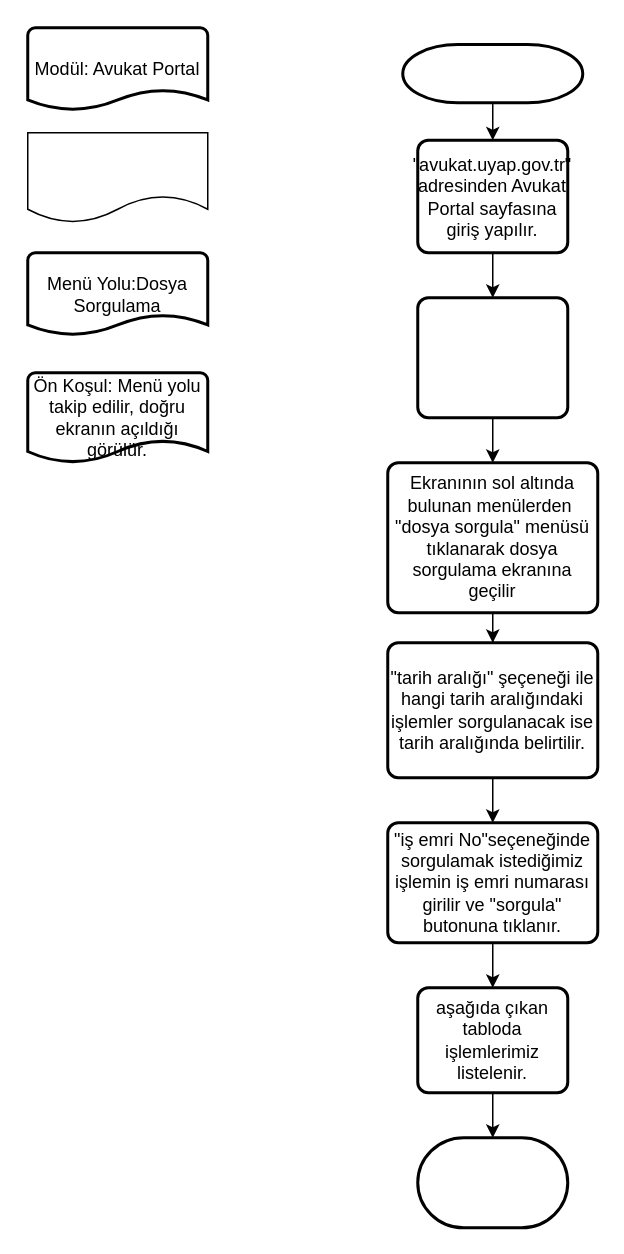
The diagram is 624 pixels wide and 1254 high, and some of its shapes have lost their labels. Here are the shapes that lost their labels. From the top down, the box of each, then its label:
(400, 42, 584, 104): Başla
(26, 131, 208, 223): Birim/Rol: Avukat
(416, 296, 568, 418): Kullanıcı adı girilerek Avukat Portal ekranına girilir.
(416, 1136, 568, 1228): Bitir
